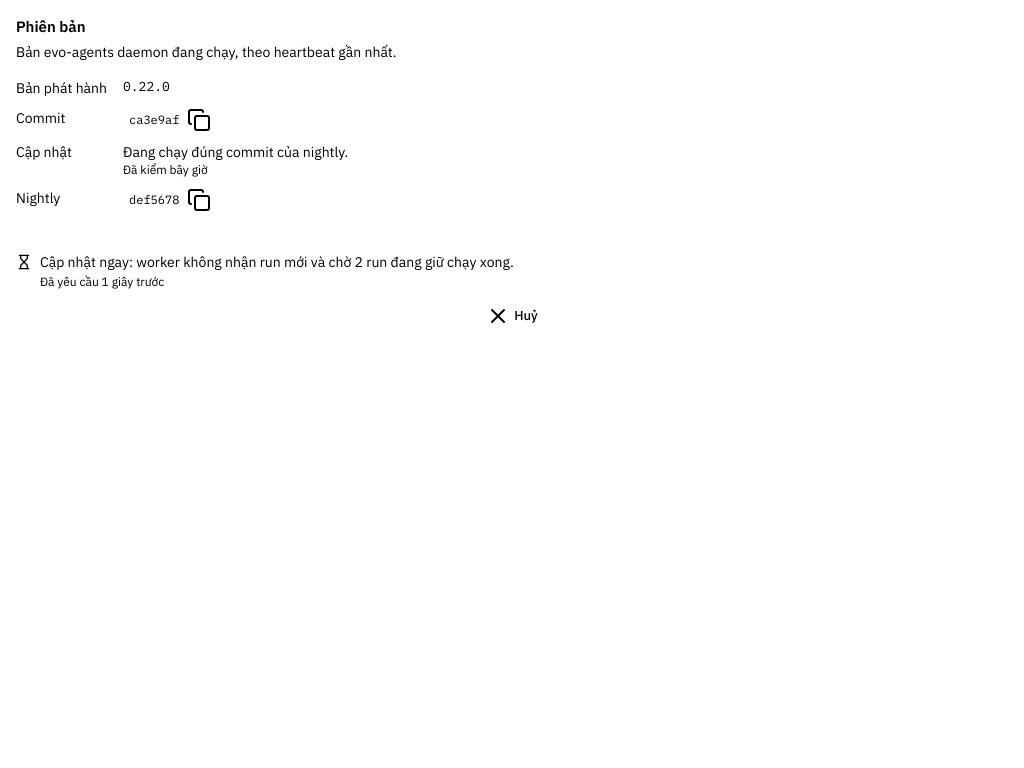
Scenario: UpdateNow › says what an open request waits for, and cancels it
Expected: the message with test id "update-now-status" shows "chờ 2 run đang giữ chạy xong", [40,253,514,271]
What coordinates should you click on to do the following:
click the button "Huỷ"
I would click on:
 (512, 316)
Its box is [16,302,1008,330].
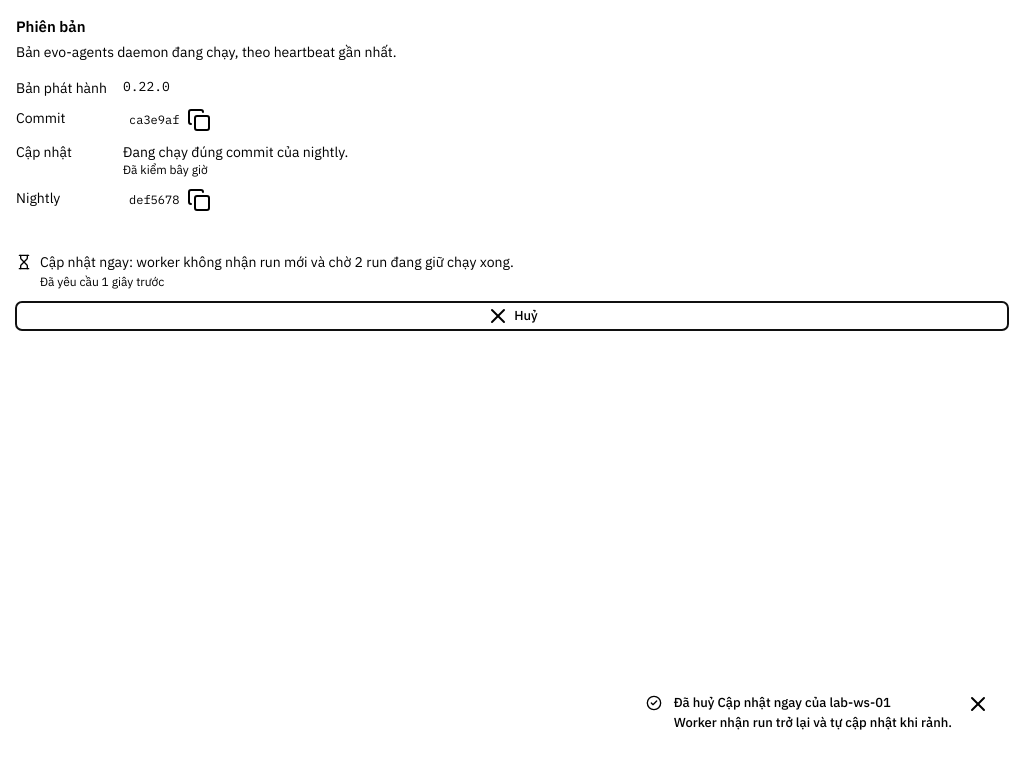
Now the text "Đã huỷ Cập nhật ngay của lab-ws-01" is shown, box [674,694,891,711]
